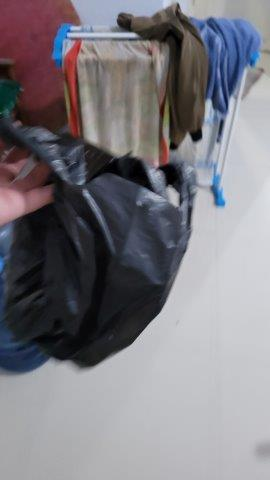plastik: (1, 111, 200, 369)
